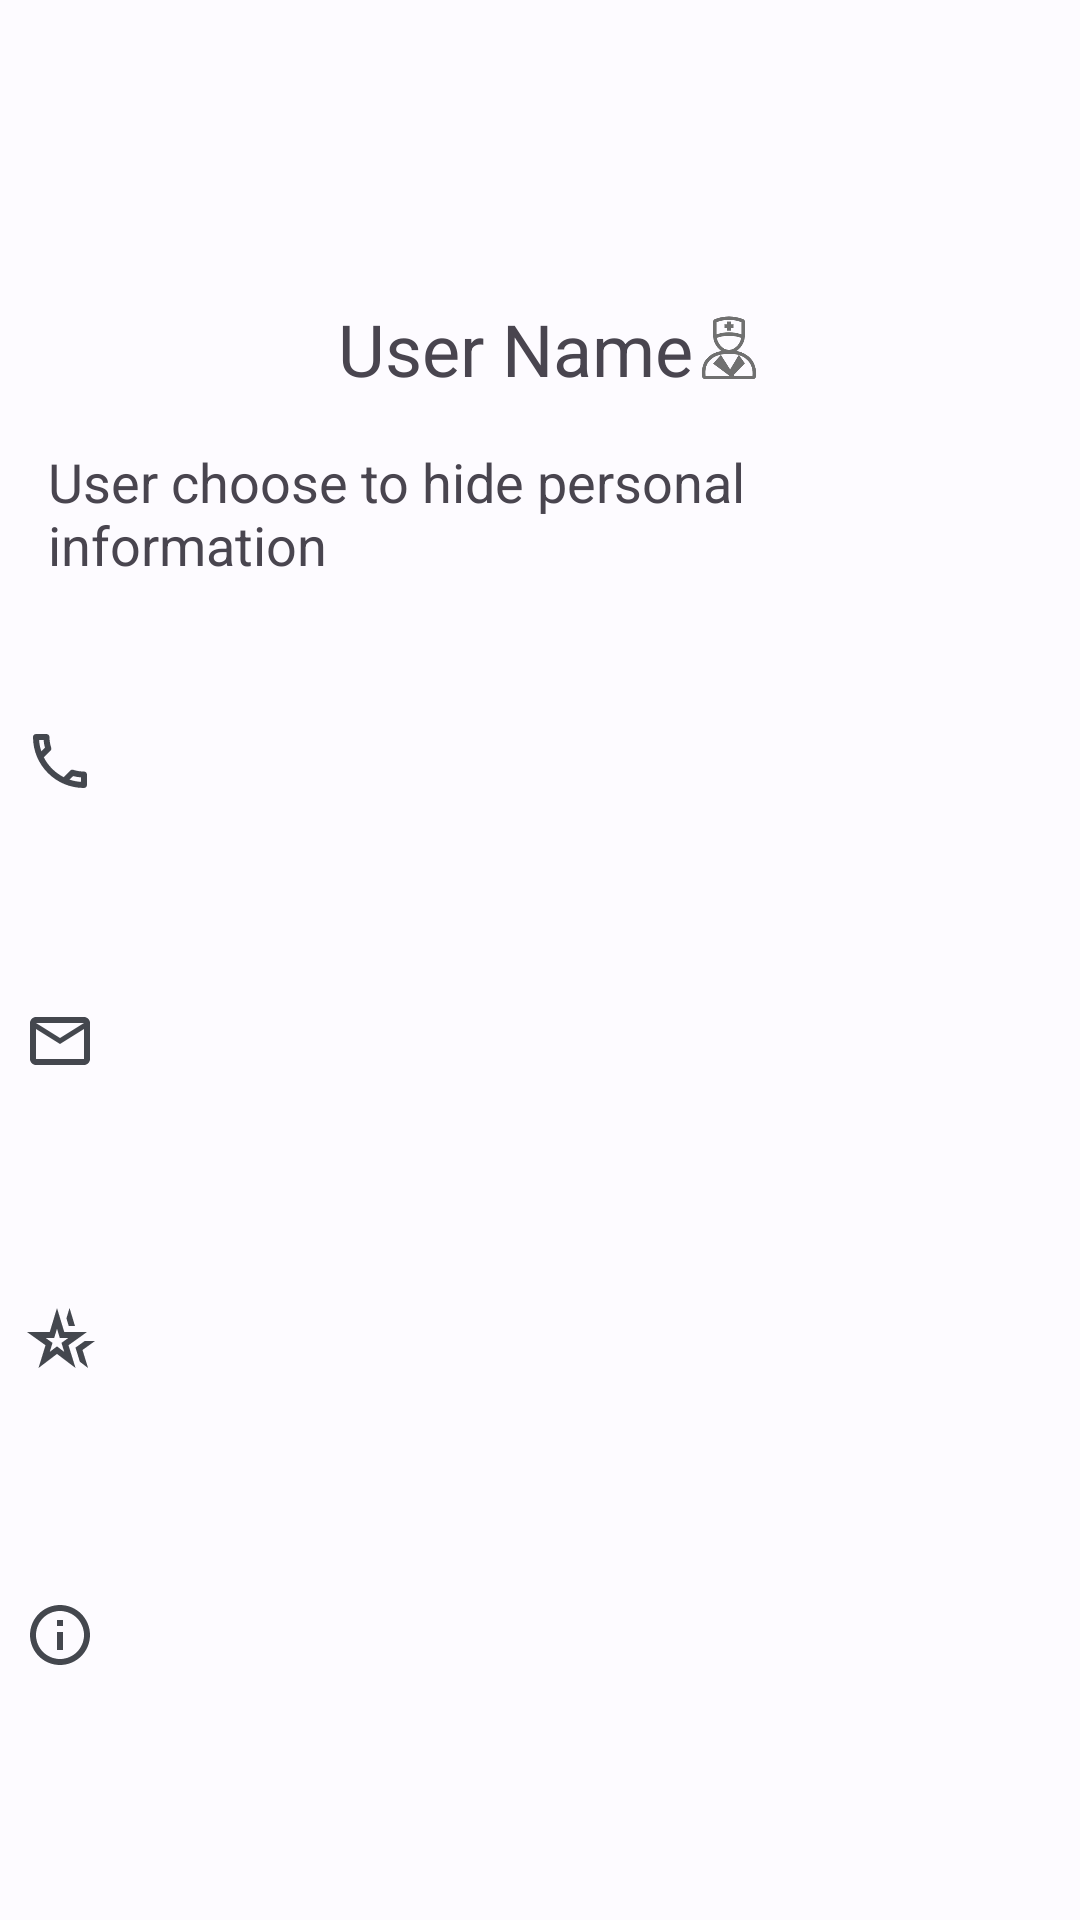

Where to tap for icons on this 1080w x 1920h app screen, as [x,y]:
doc: [729,347]
email: [60,1041]
hobbies: [61,1338]
info: [60,1635]
phone: [60,761]
